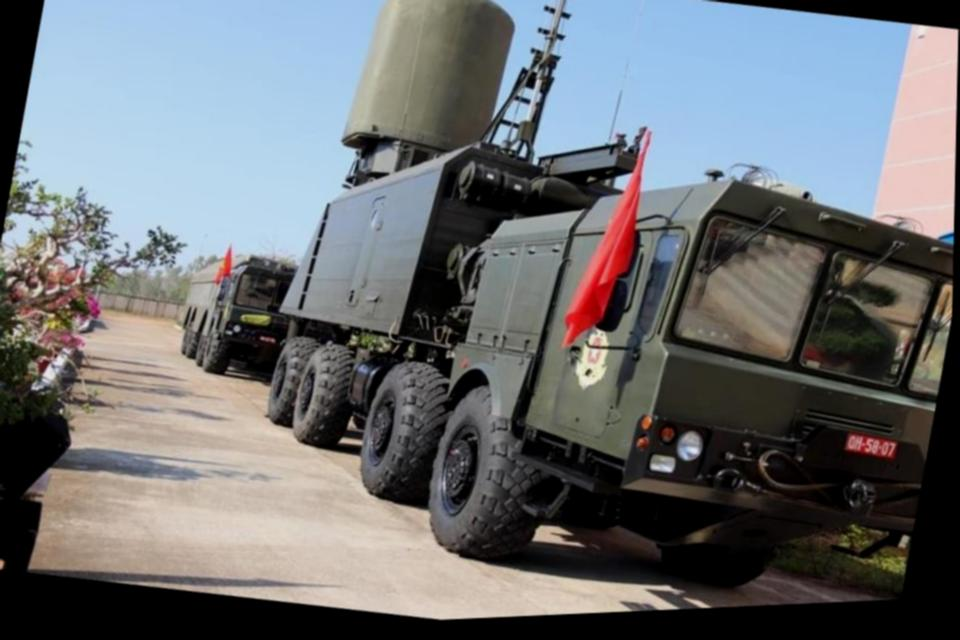License_Plate: (840, 425, 897, 468)
